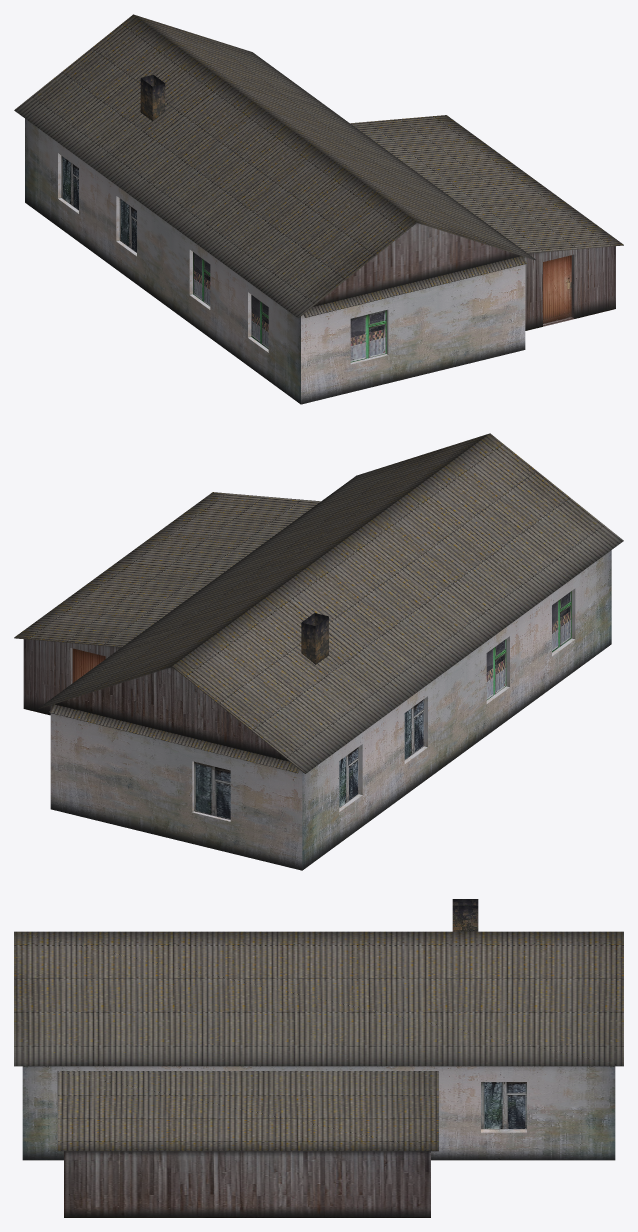
File: r402_tushnolobovo_dom2.FBX
3 views of the same model, one above another, from view 1: azimuth 30°, elevation 25°; view 2: azimuth 150°, elevation 25°; view 3: azimuth 270°, elevation 25° (orthographic). The views are drawn at different scales.
Visible parts, largest first — view 1: r402_tushnolobovo_dom2; view 2: r402_tushnolobovo_dom2; view 3: r402_tushnolobovo_dom2.
Boxes of the visible parts, x1,y1,x2,y2 form: r402_tushnolobovo_dom2: (14, 14, 623, 404); r402_tushnolobovo_dom2: (14, 433, 623, 870); r402_tushnolobovo_dom2: (14, 899, 623, 1217).
Bounding box in the file's own units: 12.15 × 17.23 × 5.32.
